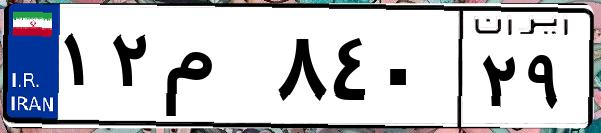0: (385, 28, 445, 110)
1: (57, 26, 110, 100)
2: (475, 38, 525, 113), (110, 28, 158, 98)
4: (330, 28, 385, 110)
8: (270, 28, 330, 110)
9: (525, 38, 570, 115)
م: (158, 20, 270, 120)
